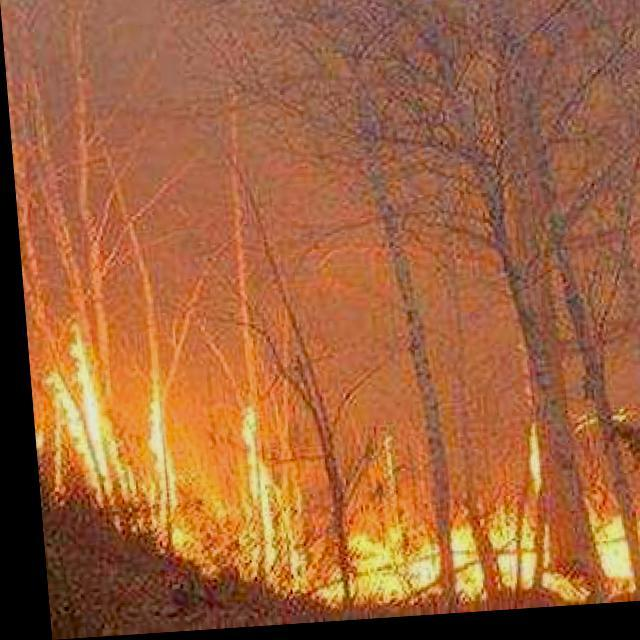Fire: (31, 286, 639, 638)
